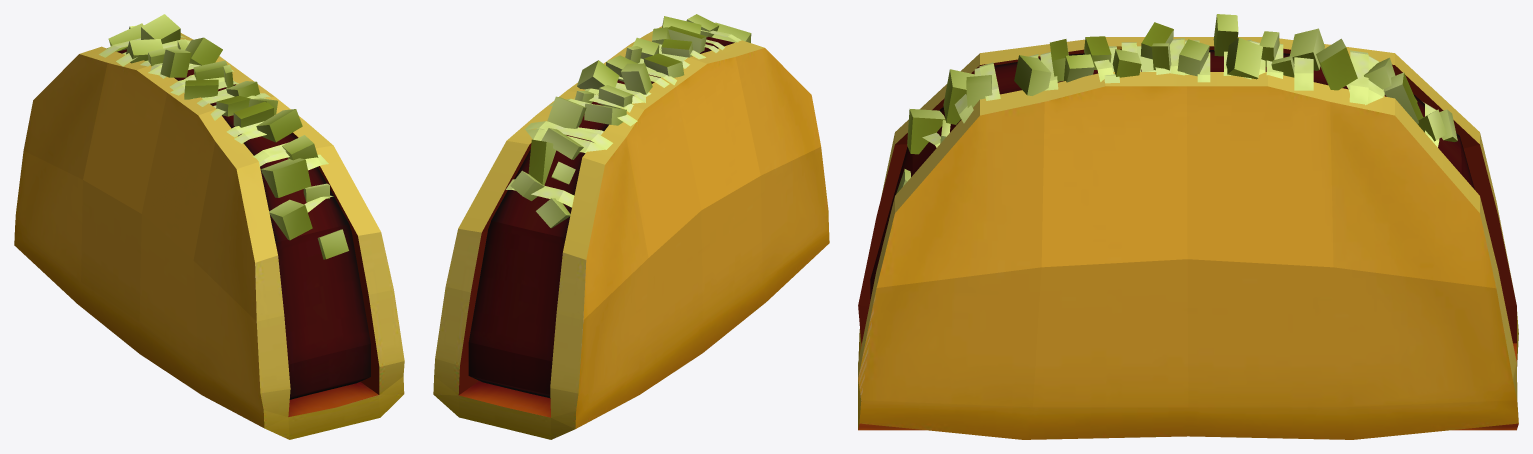
The model's file is LowTaco.obj.
3 views of the same model, side by side, from view 1: azimuth 30°, elevation 25°; view 2: azimuth 150°, elevation 25°; view 3: azimuth 270°, elevation 25° (orthographic). The views are drawn at different scales.
Size of the model in its own units: 0.5524 by 1.05 by 1.69.
Materials: 1 (1 with a texture image).
